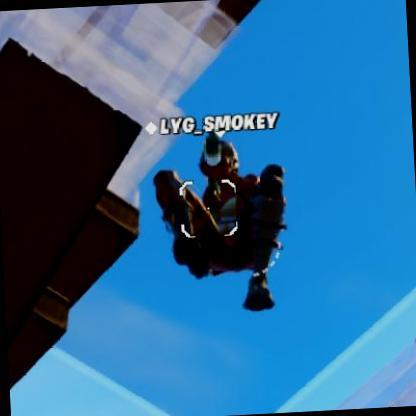person: (165, 130, 283, 288)
